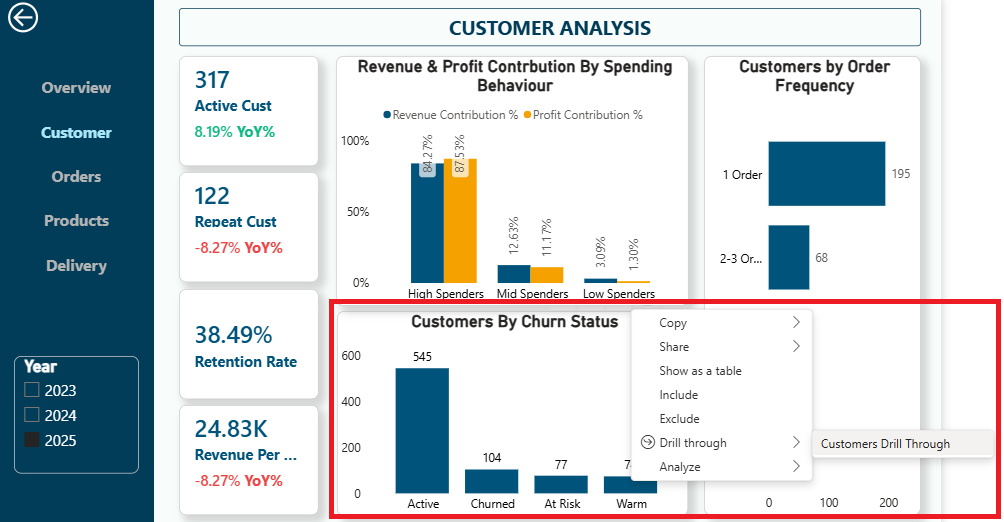

Layout of this report page (visuals, bound fields, positions):
{"tool":"powerbi","page":{"name":"Customer","canvas":[1280,720],"ordinal":1},"visuals":[{"type":"textbox","box":[243.8,14.2,1010,52],"z":0},{"type":"actionButton","box":[18.5,157.1,169.7,50.4],"z":1000},{"type":"actionButton","box":[18.5,218.4,169.7,48.7],"z":2000},{"type":"actionButton","box":[18.5,337.6,169.7,50.4],"z":3000},{"type":"actionButton","box":[18.5,278,169.7,48.7],"z":4000},{"type":"actionButton","box":[18.5,95.7,169.7,50.4],"z":5000},{"type":"actionButton","box":[0,0,63.4,52.8],"z":6000},{"type":"slicer","fields":{"Values":["Calendar.Date.Variation.Date Hierarchy.Year"]},"box":[18.5,487.1,169.7,159.6],"z":7000},{"type":"cardVisual","fields":{"Data":["Count(orders.customer_id)"]},"box":[243.6,79,189.8,149.5],"z":8000},{"type":"cardVisual","fields":{"Data":["measures_table.Repeat Customers"]},"box":[243.1,237,190.2,150.2],"z":9000},{"type":"cardVisual","fields":{"Data":["measures_table.Retention Rate %"]},"box":[243.1,395.6,190.2,150.2],"z":10000},{"type":"cardVisual","fields":{"Data":["measures_table.Revenue Per Customer"]},"box":[243.6,554.3,189.8,149.5],"z":11000},{"type":"clusteredBarChart","title":"Customers by Order Frequency","fields":{"Category":["Order Frequency.Bucket"],"Y":["measures_table.Customers by Order Frequency"]},"box":[958.1,79.4,294.8,625],"z":12000},{"type":"columnChart","title":"Customers By Churn Status","fields":{"Category":["Churn Category.Status"],"Y":["measures_table.Customers by Churn Status"]},"box":[459.2,426.6,477.6,279.2],"z":13000},{"type":"lineClusteredColumnComboChart","title":"Revenue & Profit Contrbution By Spending Behaviour","fields":{"Category":["Customer Segments.Segment"],"Y":["measures_table.Revenue Contribution %","measures_table.Profit Contribution %"]},"box":[456.9,79,480.4,340],"z":14000}]}

Visuals, with their boxes on the page's 1280x720 design canvas (x1, y1, x2, y2). These are canvas units, not pixel positions in the 1004x522 screenshot, which may show the page scaled, cropped or inside an application window:
textbox: [244, 14, 1254, 66]
actionButton: [18, 157, 188, 208]
actionButton: [18, 218, 188, 267]
actionButton: [18, 338, 188, 388]
actionButton: [18, 278, 188, 327]
actionButton: [18, 96, 188, 146]
actionButton: [0, 0, 63, 53]
slicer - Calendar.Date.Variation.Date Hierarchy.Year: [18, 487, 188, 647]
cardVisual - Count(orders.customer_id): [244, 79, 433, 228]
cardVisual - measures_table.Repeat Customers: [243, 237, 433, 387]
cardVisual - measures_table.Retention Rate %: [243, 396, 433, 546]
cardVisual - measures_table.Revenue Per Customer: [244, 554, 433, 704]
"Customers by Order Frequency" clusteredBarChart: [958, 79, 1253, 704]
"Customers By Churn Status" columnChart: [459, 427, 937, 706]
"Revenue & Profit Contrbution By Spending Behaviour" lineClusteredColumnComboChart: [457, 79, 937, 419]
